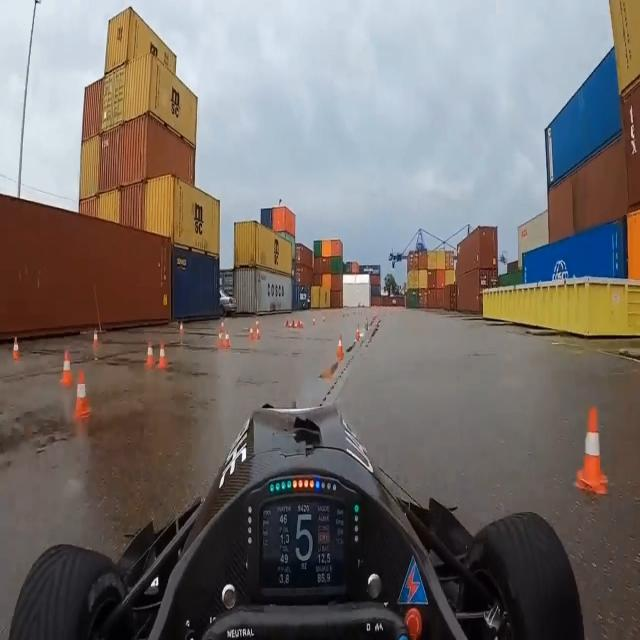Orange cone: (566, 382, 618, 521), (71, 363, 99, 431), (53, 338, 78, 396), (209, 316, 236, 361), (6, 325, 31, 371), (332, 326, 350, 378), (243, 315, 267, 352), (141, 326, 157, 378), (155, 334, 170, 381), (172, 314, 192, 349), (88, 318, 102, 358)
